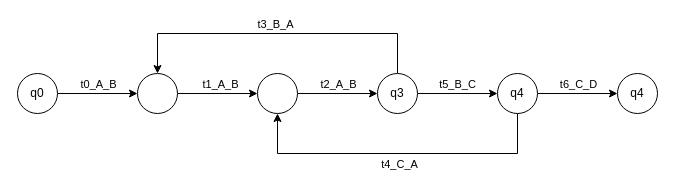
The diagram is 675 pixels wide and 187 high, and some of its shapes have lost their labels. Each missing label, with the centre of its shape:
q1: point (157, 93)
q2: point (277, 93)
